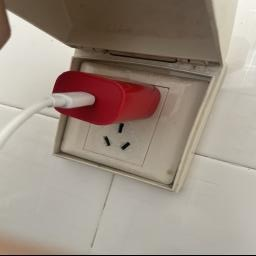outlet: (32, 47, 224, 200)
